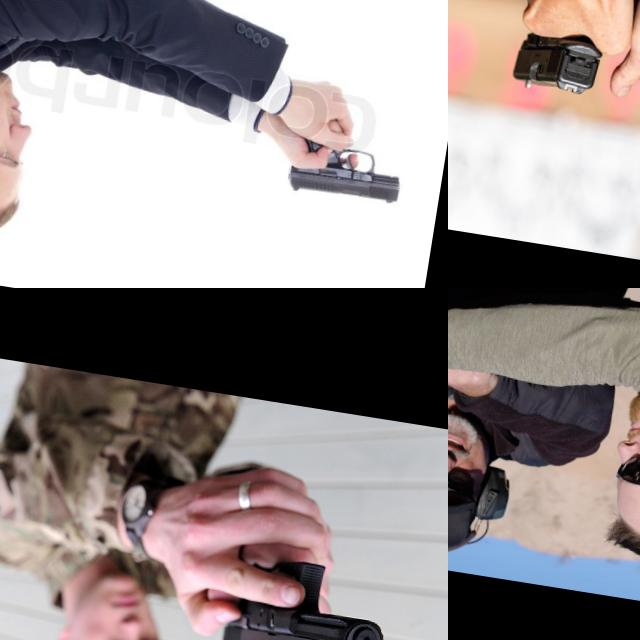handgun: (211, 546, 400, 640), (504, 18, 620, 104), (282, 137, 407, 210), (448, 346, 514, 412)
